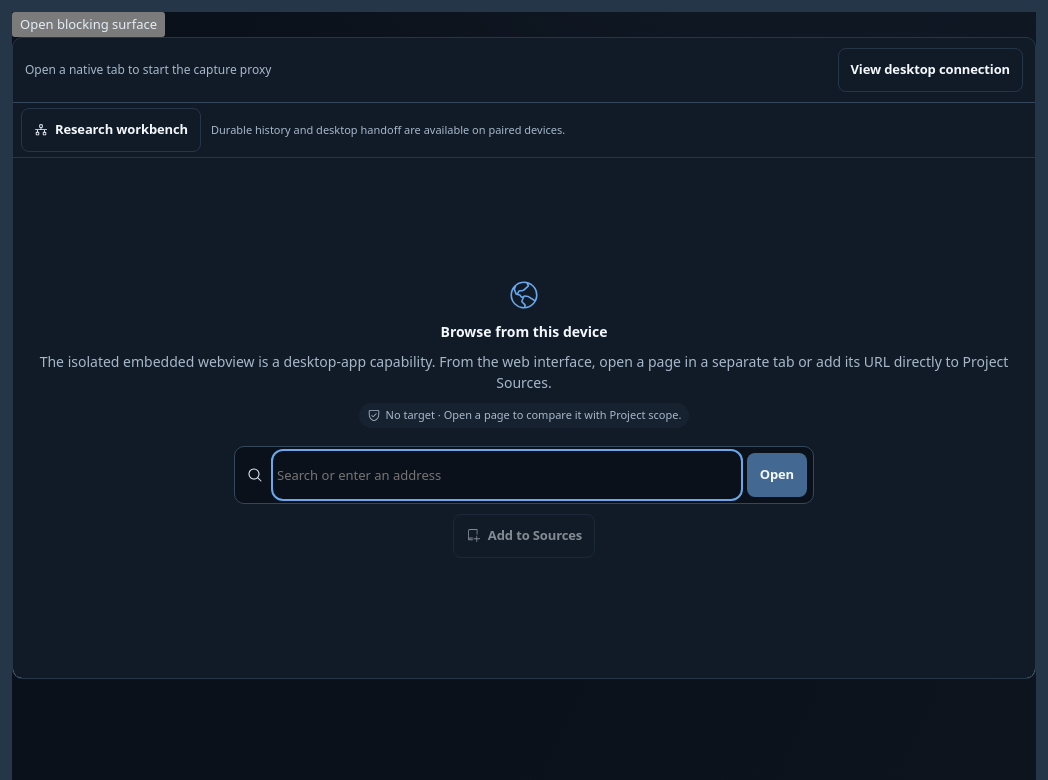
WorkbenchBrowser › opens web addresses externally and can add them directly to Project Sources
This screenshot has width=1048, height=780.
Type "docs.example.com/guide" into the field named "Web address". click: coordinates (507, 475)
box: [275, 453, 739, 497]
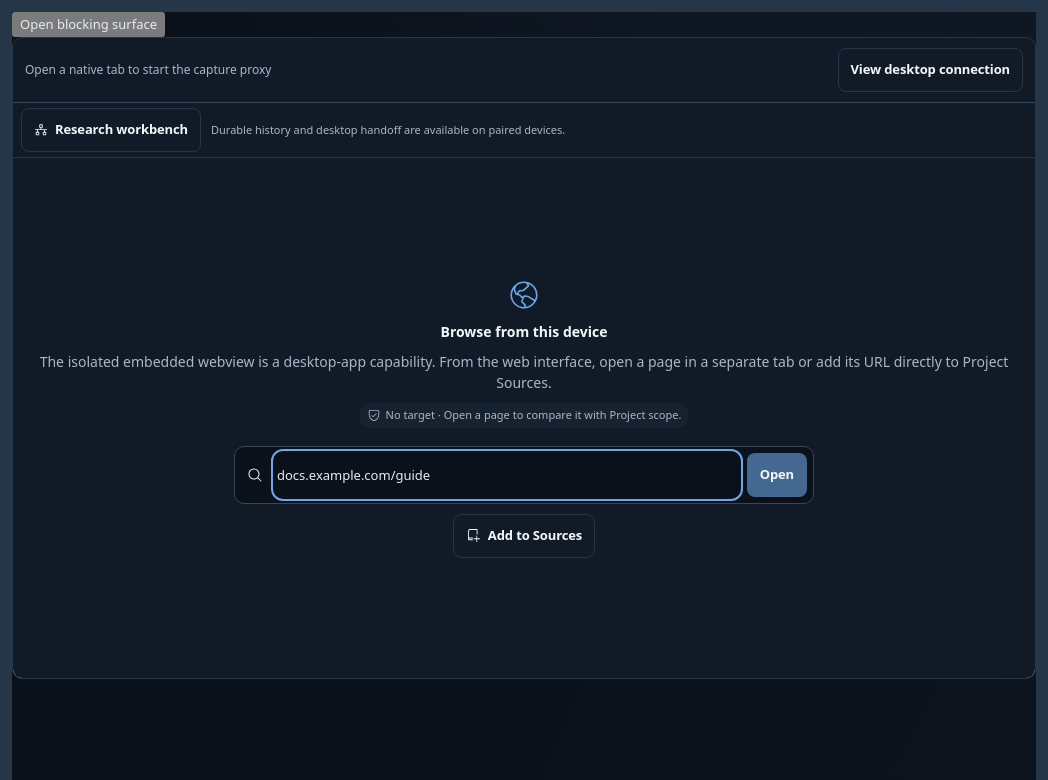
Click the button "Open". click: coordinates (777, 475)
box: [747, 453, 807, 497]
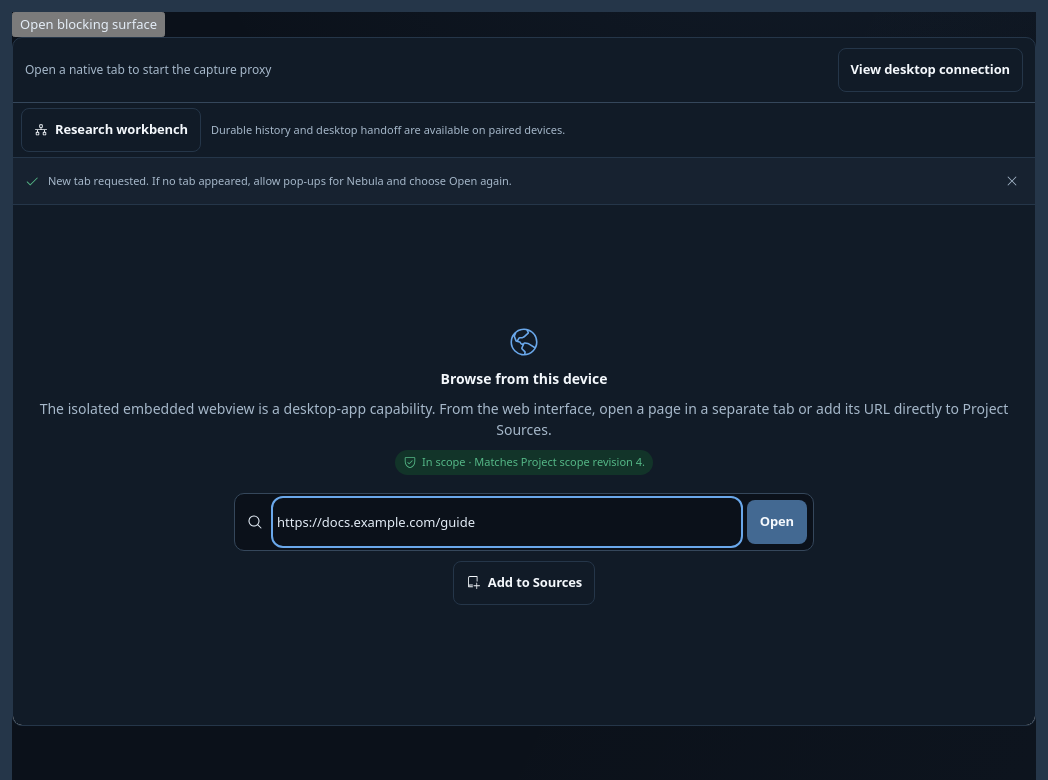
Expected: the button "Add to Sources" is enabled
Expected: the message shows "New tab requested.", [48, 173, 512, 188]
Expected: the text "In scope · Matches Project scope revision 4." is shown, [395, 450, 653, 475]
Click the button "Add to Sources". click: coordinates (524, 583)
box: [453, 561, 595, 605]
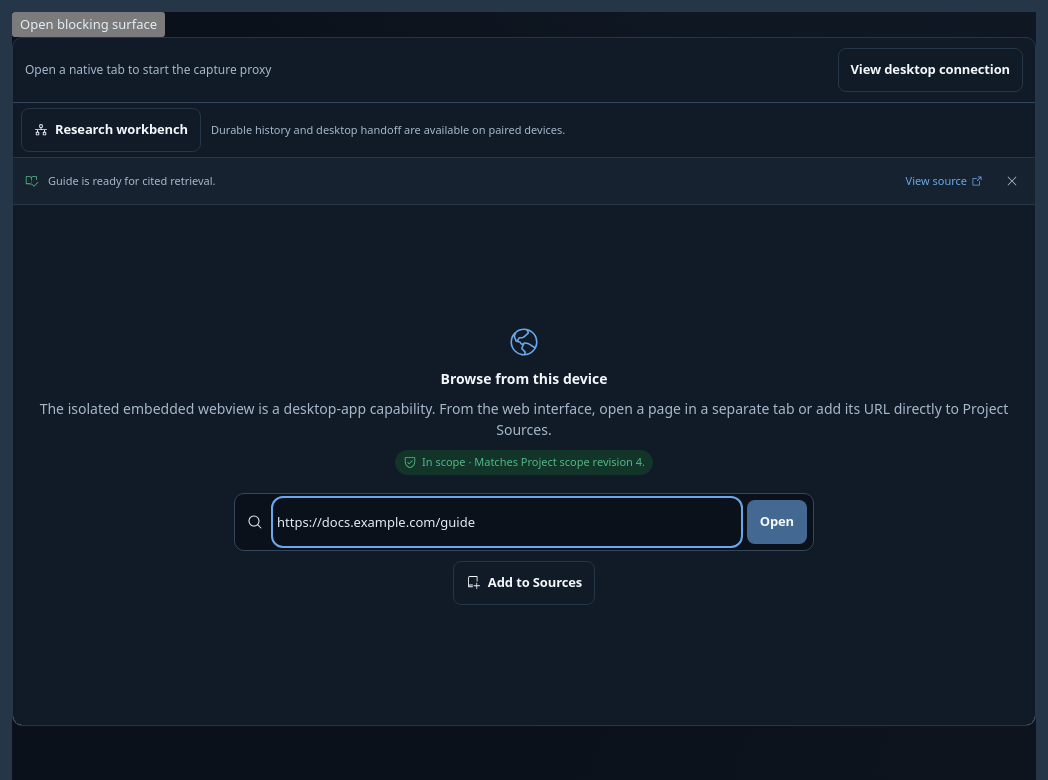
Expected: the message shows "Guide is ready for cited retrieval.", [48, 173, 216, 188]
